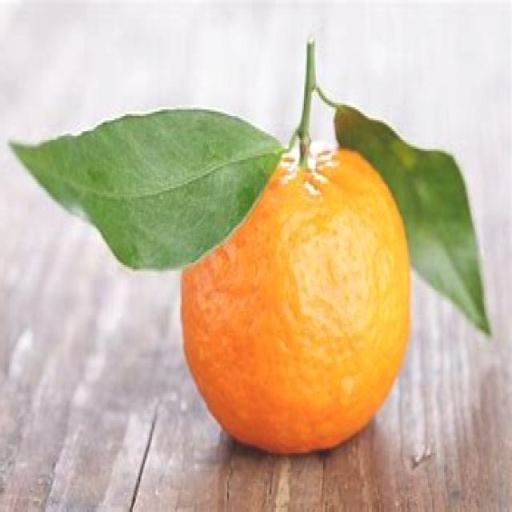fruit: (181, 151, 408, 453)
